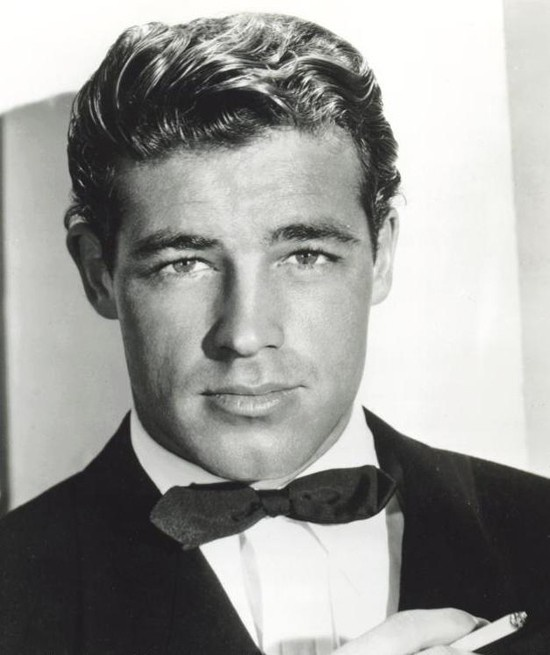bad: (111, 201, 379, 468)
